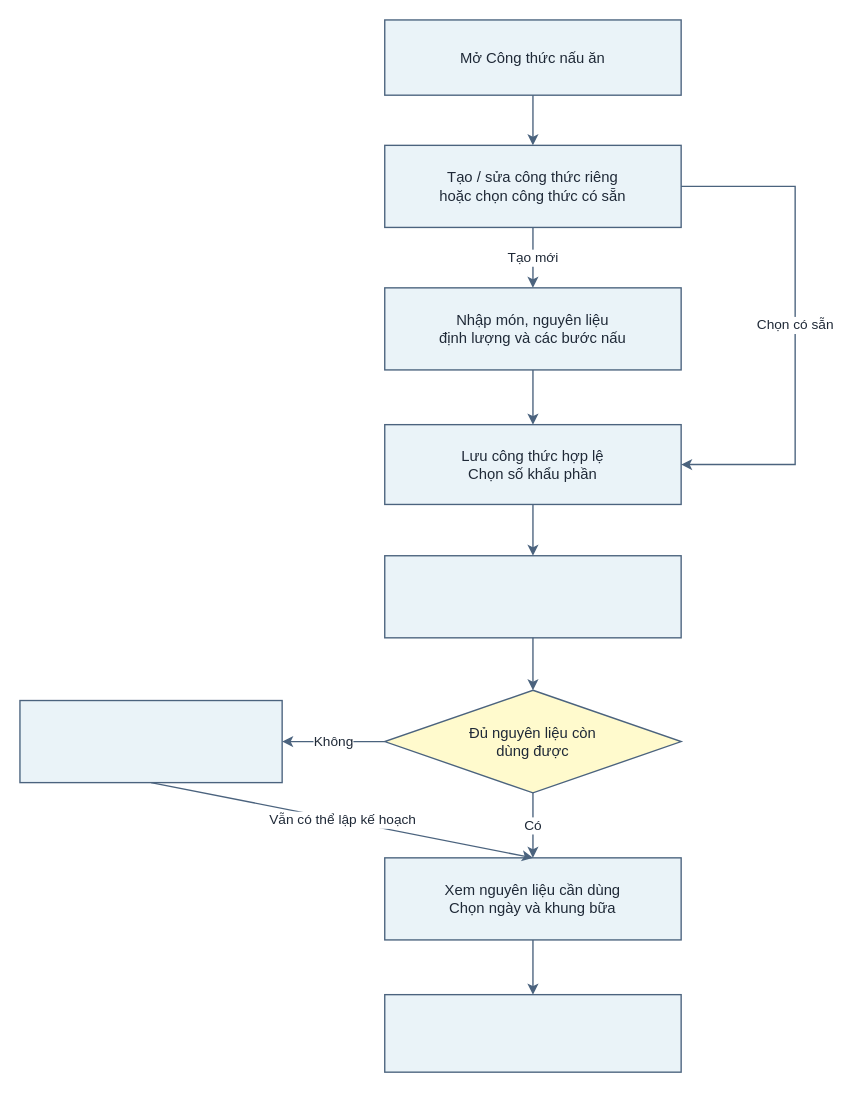
This 854x1093 diagram has some shape labels left out. Here are the shapes that lost their labels. From the top down, the centre of each, then its label:
At pixel 532 596: "So khớp nguyên liệu với kho Ưu tiên lô gần hết hạn".
At pixel 150 741: "Thêm lượng thiếu vào danh sách mua sắm".
At pixel 532 1032: "Thêm vào kế hoạch bữa ăn".
